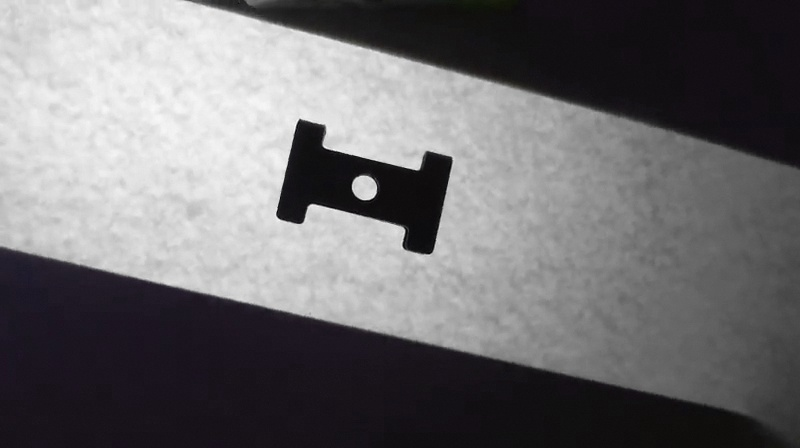O002: (273, 112, 457, 257)
